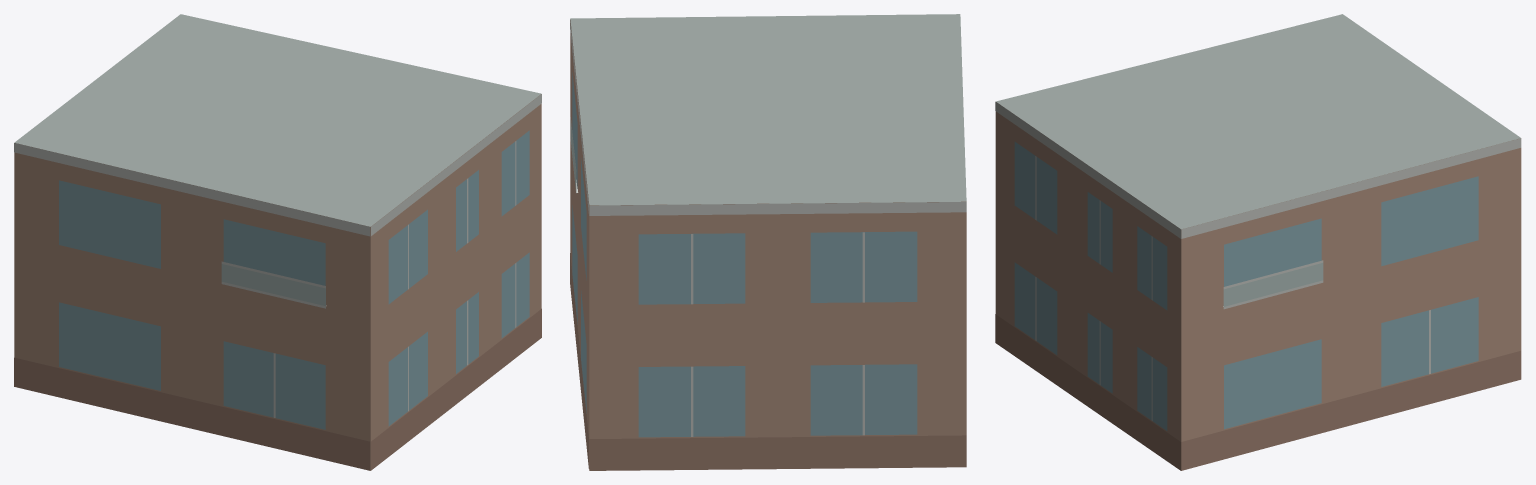
Rendered from survey-upis-32475979.glb.
The picture shows the model from 3 angles, left to right: view 1: azimuth 30°, elevation 25°; view 2: azimuth 150°, elevation 25°; view 3: azimuth 270°, elevation 25°; orthographic projection. The views are drawn at different scales.
Visible parts, largest first — view 1: survey-upis-32475979.tmp; view 2: survey-upis-32475979.tmp; view 3: survey-upis-32475979.tmp.
Boxes of the visible parts, <box> form: survey-upis-32475979.tmp: <box>14,14,541,470</box>; survey-upis-32475979.tmp: <box>570,14,966,470</box>; survey-upis-32475979.tmp: <box>995,14,1521,470</box>.
Size of the model in its own units: 11.68 by 6.1 by 12.04.
